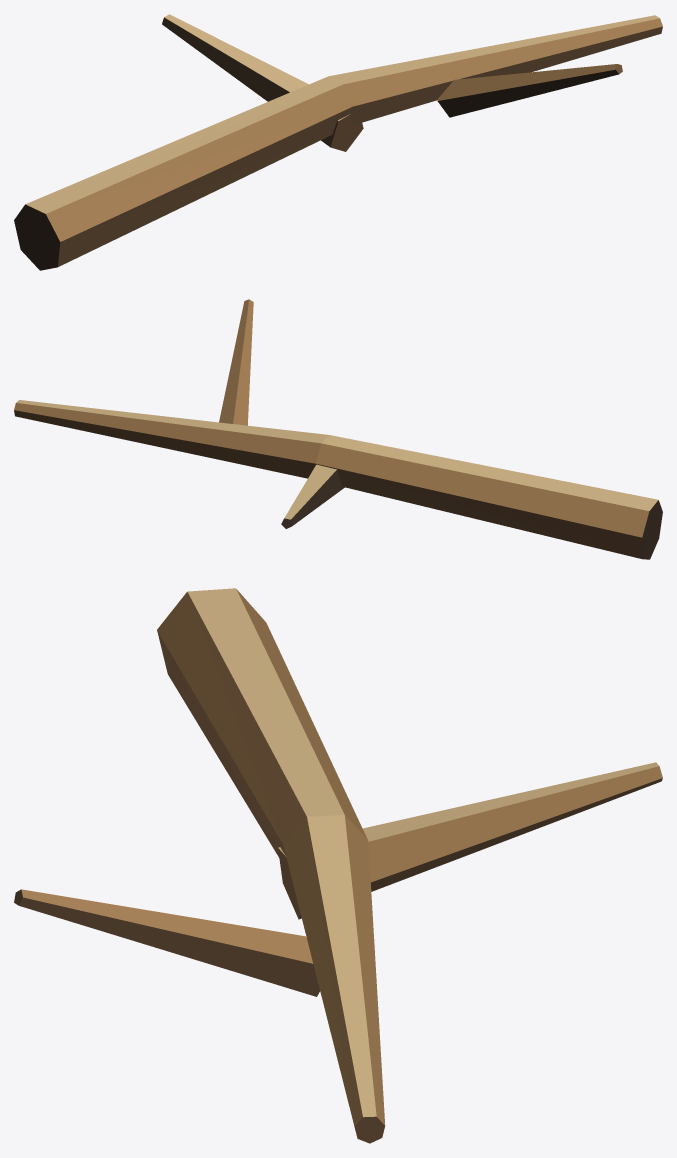
Rendered from TW_PROP_BRANCH_FORK_B_LOD0.glb.
The picture shows the model from 3 angles, top to bottom: view 1: azimuth 30°, elevation 25°; view 2: azimuth 150°, elevation 25°; view 3: azimuth 270°, elevation 25°; orthographic projection. The views are drawn at different scales.
Visible parts, largest first — view 1: TW_PROP_BRANCH_FORK_B_LOD0; view 2: TW_PROP_BRANCH_FORK_B_LOD0; view 3: TW_PROP_BRANCH_FORK_B_LOD0.
Part boxes in pixels (<box>): TW_PROP_BRANCH_FORK_B_LOD0: <box>14,14,662,270</box>; TW_PROP_BRANCH_FORK_B_LOD0: <box>14,299,662,559</box>; TW_PROP_BRANCH_FORK_B_LOD0: <box>14,588,662,1143</box>.
Bounding box in the file's own units: 1.39 × 0.2465 × 0.7391.
1 material, 1 textured.
